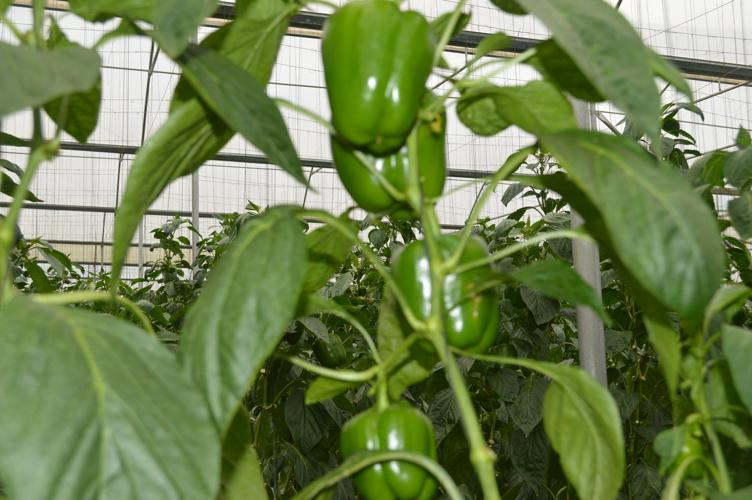BellPepper: (323, 1, 443, 157), (380, 227, 508, 355), (324, 102, 455, 212), (332, 396, 440, 500)
